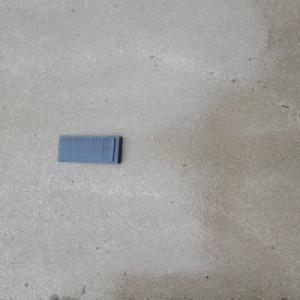PlasticPart: (54, 135, 123, 164)
